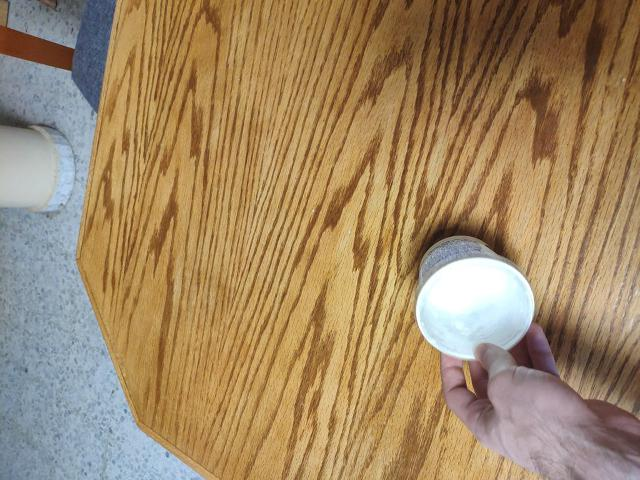cotage: (416, 254, 542, 369)
